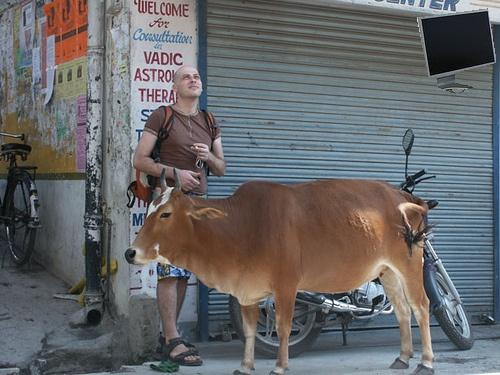tampered: (418, 9, 496, 94)
